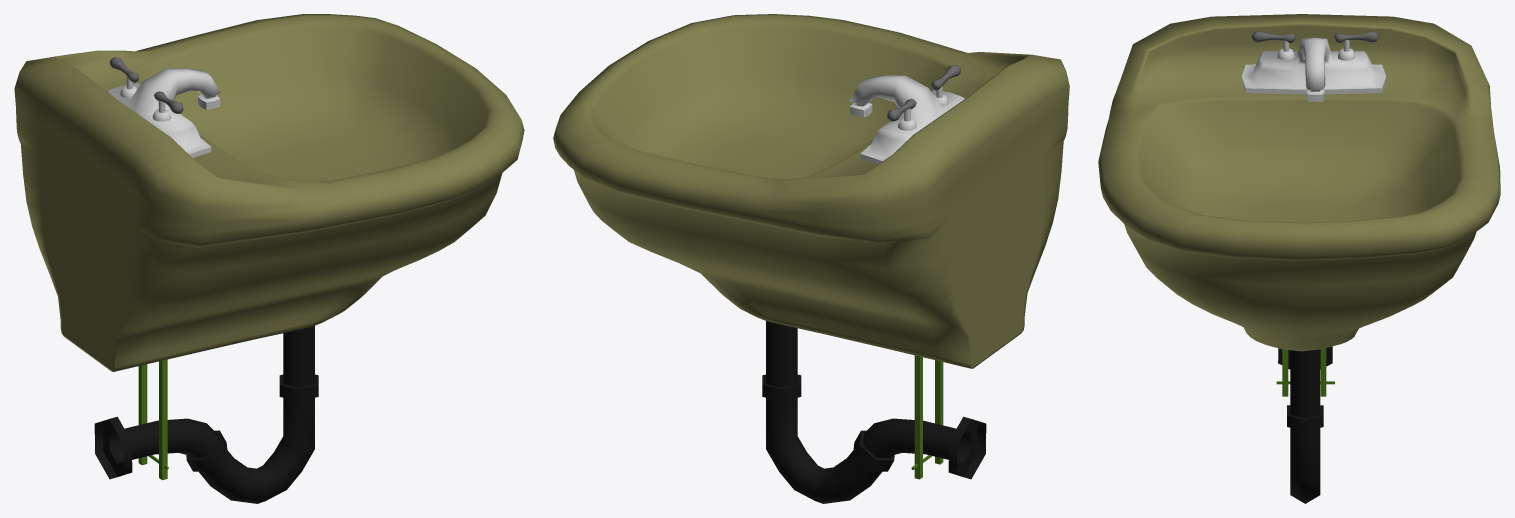
The model's file is sink.fbx.
3 renders of one model, left to right at view 1: azimuth 30°, elevation 25°; view 2: azimuth 150°, elevation 25°; view 3: azimuth 270°, elevation 25°, orthographic. The views are drawn at different scales.
Parts seen in each view (by area): view 1: Line001, Line002, Cylinder001, Line005, Group001; view 2: Line001, Line002, Cylinder001, Line005, Group001; view 3: Line001, Cylinder001, Line002, Line005, Group001.
Boxes of the visible parts, x1,y1,x2,y2 form: Line001: (14, 14, 524, 371); Line002: (94, 325, 318, 503); Cylinder001: (107, 68, 220, 157); Line005: (138, 359, 168, 480); Group001: (109, 57, 183, 113); Line001: (553, 14, 1069, 368); Line002: (762, 321, 986, 503); Cylinder001: (849, 75, 964, 164); Line005: (911, 355, 943, 479); Group001: (887, 65, 960, 121); Line001: (1098, 14, 1500, 351); Cylinder001: (1241, 37, 1386, 101); Line002: (1278, 346, 1332, 503); Line005: (1276, 348, 1334, 396); Group001: (1251, 31, 1378, 42).
Bounding box in the file's own units: 87.91 × 96.22 × 83.2.
